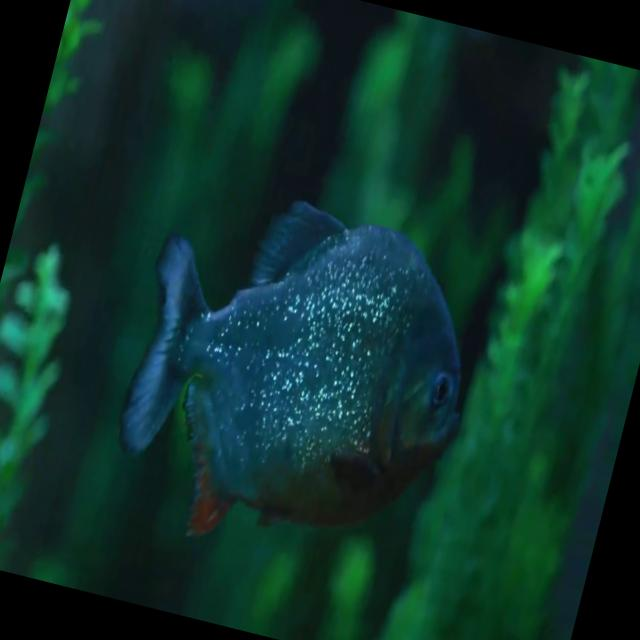fish: (87, 143, 515, 602)
